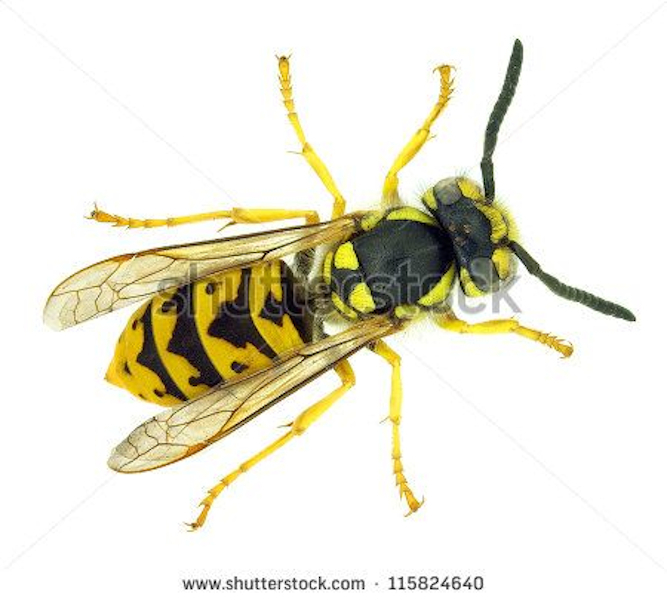chax: (37, 31, 636, 540)
